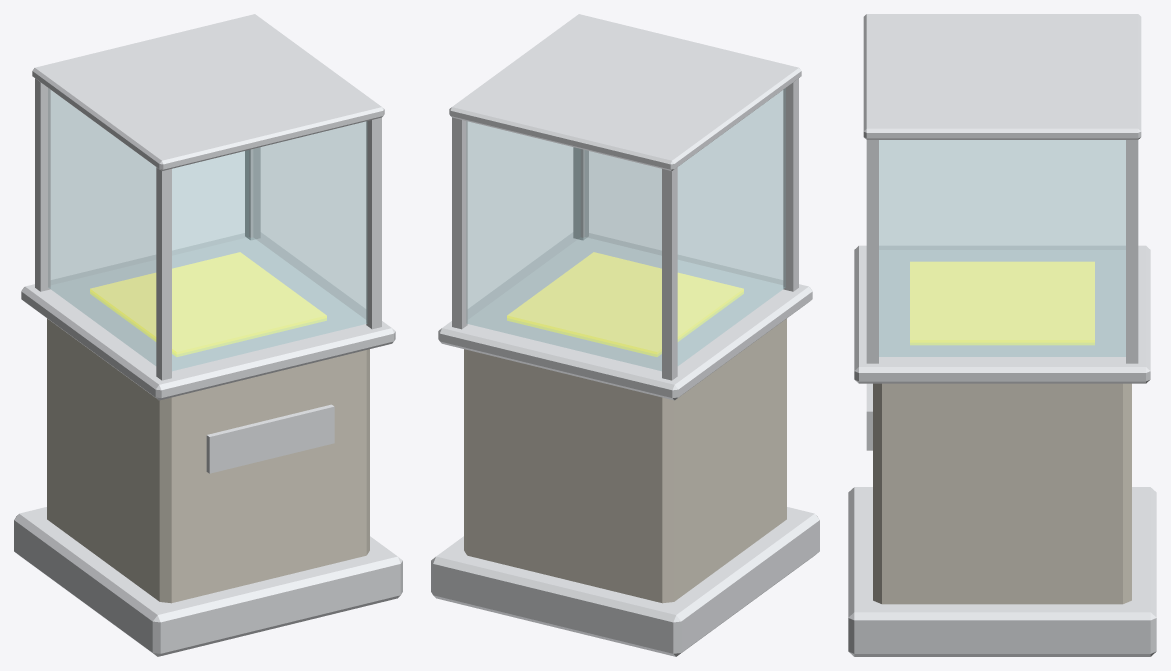
Rendered from lt_trophy_mp.glb.
3 views of the same model, side by side, from view 1: azimuth 30°, elevation 25°; view 2: azimuth 150°, elevation 25°; view 3: azimuth 270°, elevation 25° (orthographic). The views are drawn at different scales.
Parts seen in each view (by area): view 1: lt_trophy_mp; view 2: lt_trophy_mp; view 3: lt_trophy_mp.
Boxes of the visible parts, x1,y1,x2,y2 form: lt_trophy_mp: (14,14,402,656); lt_trophy_mp: (431,14,819,656); lt_trophy_mp: (848,14,1156,656).
Size of the model in its own units: 1 by 1.87 by 1.
